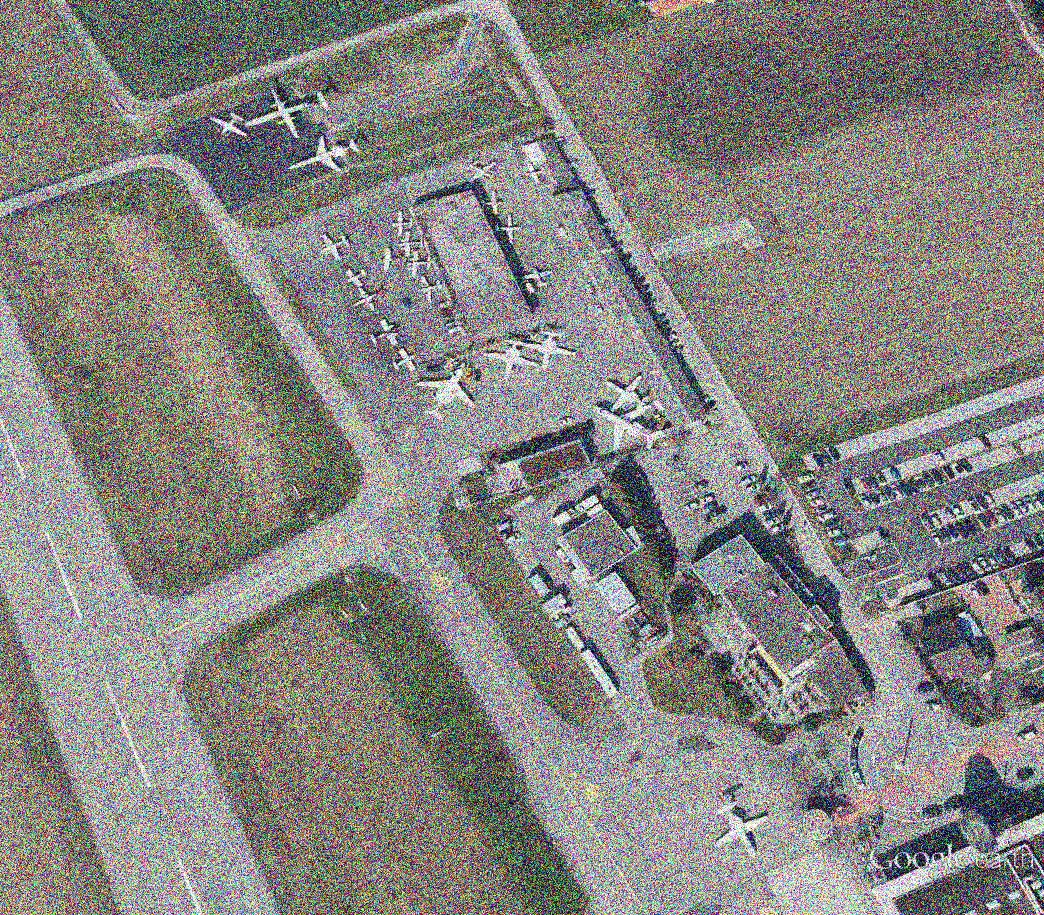aircraft: (246, 84, 333, 144), (414, 362, 481, 428), (592, 402, 667, 457), (711, 799, 774, 861), (479, 332, 545, 383), (286, 134, 361, 176), (527, 326, 580, 374), (606, 375, 657, 418), (365, 314, 404, 352), (317, 229, 355, 265), (208, 111, 252, 141), (351, 283, 390, 314), (412, 273, 447, 306), (388, 343, 421, 377), (493, 211, 523, 248), (377, 245, 409, 276), (404, 250, 435, 282), (521, 264, 557, 291), (466, 158, 502, 183), (479, 188, 508, 218), (522, 160, 551, 189), (391, 209, 419, 239), (398, 230, 430, 256), (342, 264, 369, 291)
